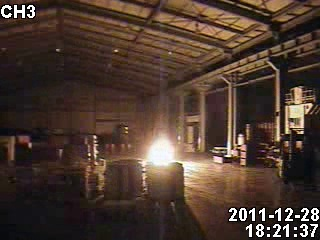fire: (146, 136, 175, 165)
